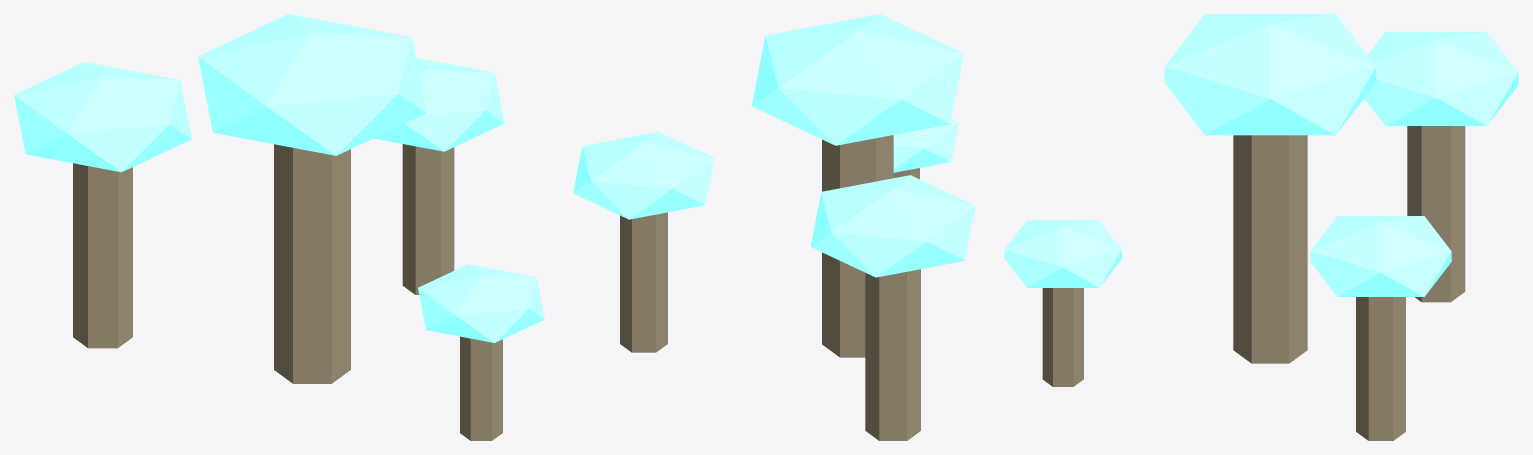
Rendered from deco_mushrooms.glb.
3 renders of one model, left to right at view 1: azimuth 30°, elevation 25°; view 2: azimuth 150°, elevation 25°; view 3: azimuth 270°, elevation 25°, orthographic. The views are drawn at different scales.
Parts seen in each view (by area): view 1: cap0_emit, stem0, cap2_emit, stem2, cap3_emit, stem1, cap1_emit, stem3; view 2: cap0_emit, cap2_emit, cap1_emit, stem2, stem0, stem1, cap3_emit; view 3: cap0_emit, stem0, cap2_emit, cap1_emit, stem2, stem1, cap3_emit, stem3.
Part boxes in pixels (x1,y1,x2,y2): cap0_emit: (198, 14, 426, 155); stem0: (274, 144, 350, 383); cap2_emit: (14, 62, 191, 172); stem2: (73, 163, 132, 348); cap3_emit: (418, 264, 544, 342); stem1: (402, 144, 454, 294); cap1_emit: (374, 58, 504, 151); stem3: (460, 336, 502, 440); cap0_emit: (752, 14, 963, 145); cap2_emit: (810, 175, 975, 277); cap1_emit: (573, 131, 714, 219); stem2: (865, 269, 920, 440); stem0: (822, 135, 893, 357); stem1: (620, 212, 667, 352); cap3_emit: (893, 119, 958, 172); cap0_emit: (1164, 14, 1376, 135); stem0: (1233, 135, 1307, 363); cap2_emit: (1364, 31, 1518, 125); cap1_emit: (1310, 216, 1451, 296); stem2: (1407, 126, 1465, 302); stem1: (1356, 297, 1405, 440); cap3_emit: (1004, 220, 1121, 287); stem3: (1042, 288, 1083, 386).
Bounding box in the file's own units: 0.3563 × 0.2605 × 0.3721.
